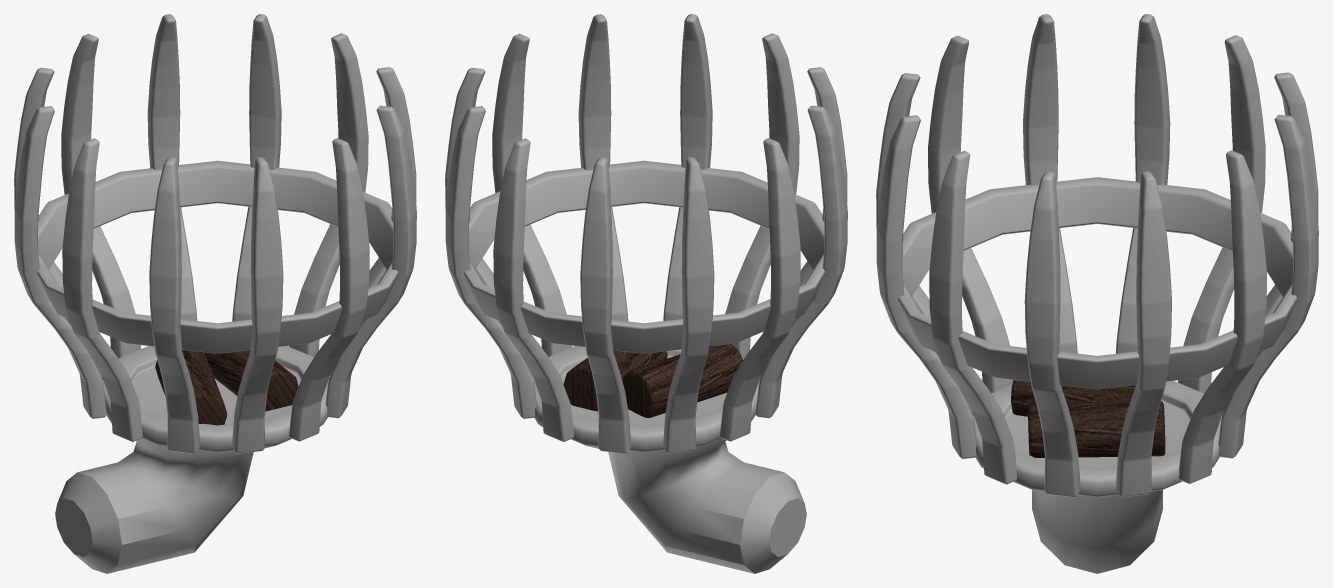
The model's file is Torch.fbx.
3 views of the same model, side by side, from view 1: azimuth 30°, elevation 25°; view 2: azimuth 150°, elevation 25°; view 3: azimuth 270°, elevation 25° (orthographic). The views are drawn at different scales.
Visible parts, largest first — view 1: Torch; view 2: Torch; view 3: Torch.
Boxes of the visible parts, x1,y1,x2,y2 form: Torch: [14, 14, 416, 573]; Torch: [445, 14, 847, 573]; Torch: [876, 14, 1318, 573].
Size of the model in its own units: 0.5014 by 0.6195 by 0.5014.
Materials: 2 (1 with a texture image).
